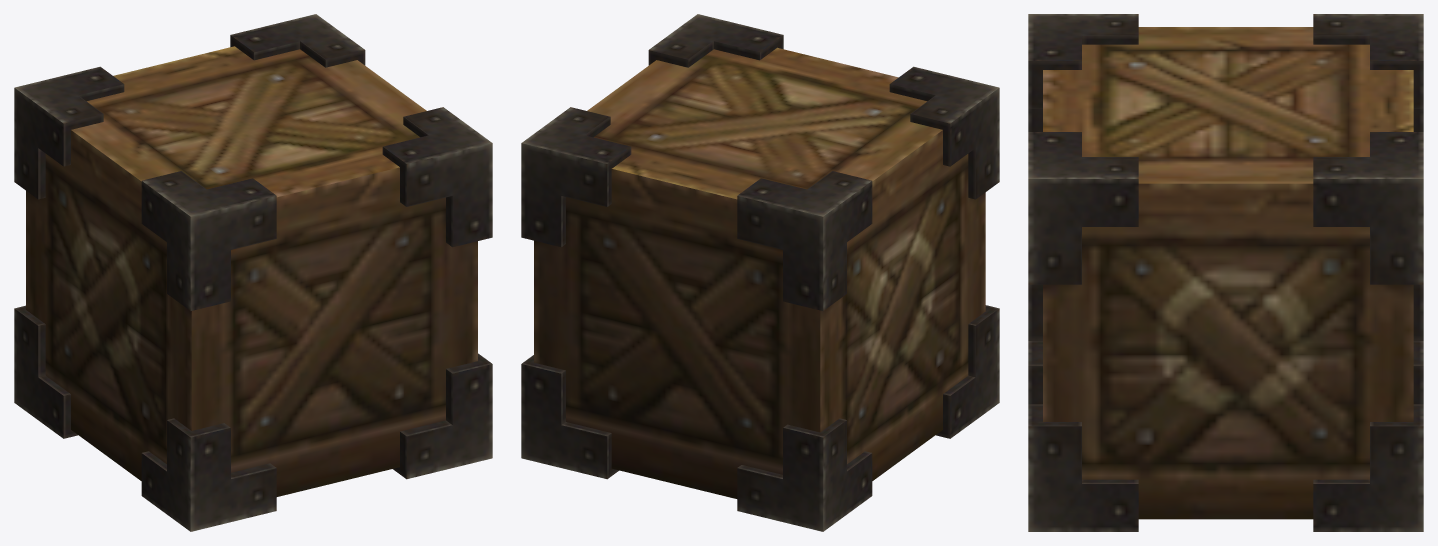
The model's file is lumina_wuqijia_04.FBX.
The picture shows the model from 3 angles, left to right: view 1: azimuth 30°, elevation 25°; view 2: azimuth 150°, elevation 25°; view 3: azimuth 270°, elevation 25°; orthographic projection. The views are drawn at different scales.
Visible parts, largest first — view 1: lumina_wuqijia_04; view 2: lumina_wuqijia_04; view 3: lumina_wuqijia_04.
Part boxes in pixels (x1,y1,x2,y2): lumina_wuqijia_04: [14, 14, 492, 531]; lumina_wuqijia_04: [521, 14, 999, 531]; lumina_wuqijia_04: [1028, 14, 1423, 531].
Size of the model in its own units: 0.8428 by 0.8411 by 0.8533.
